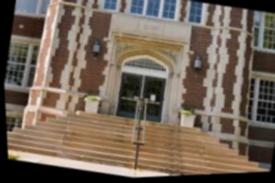Bench: (4, 88, 271, 183)
